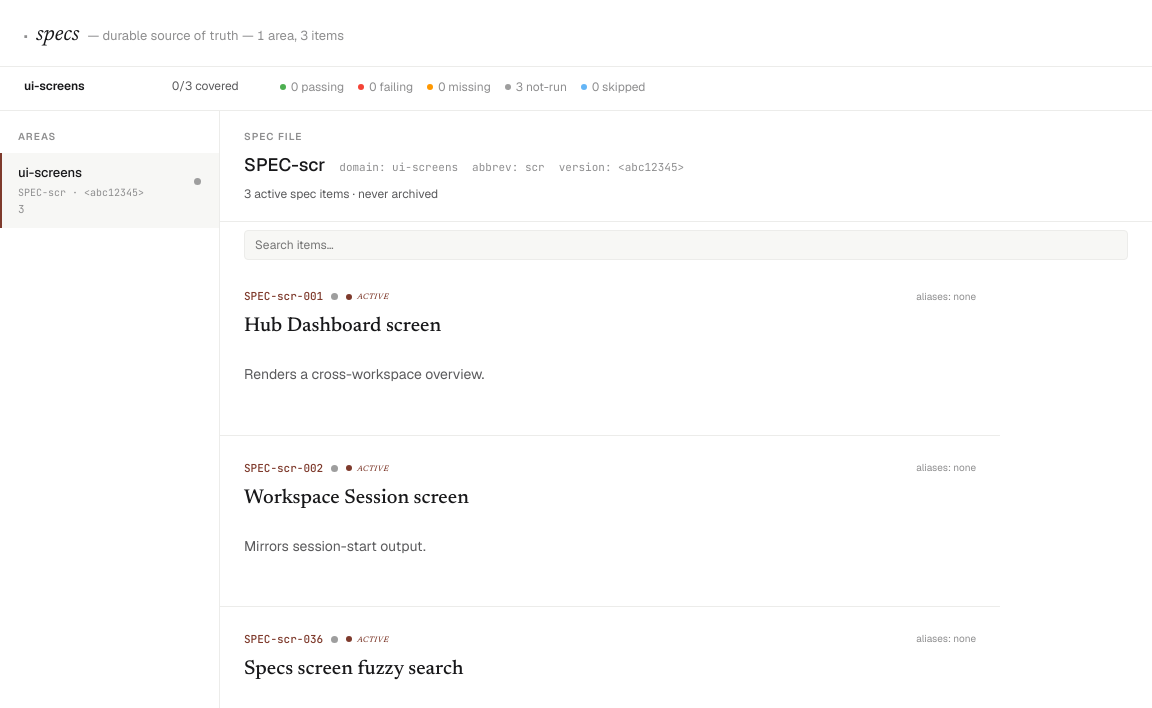
Specs screen fuzzy search (SPEC-scr-036) › typing a query that matches one item leaves only that item in the list
Type "Dashboard" into the field with class "specs-search-input". click: (686, 245)
box: [244,230,1128,260]
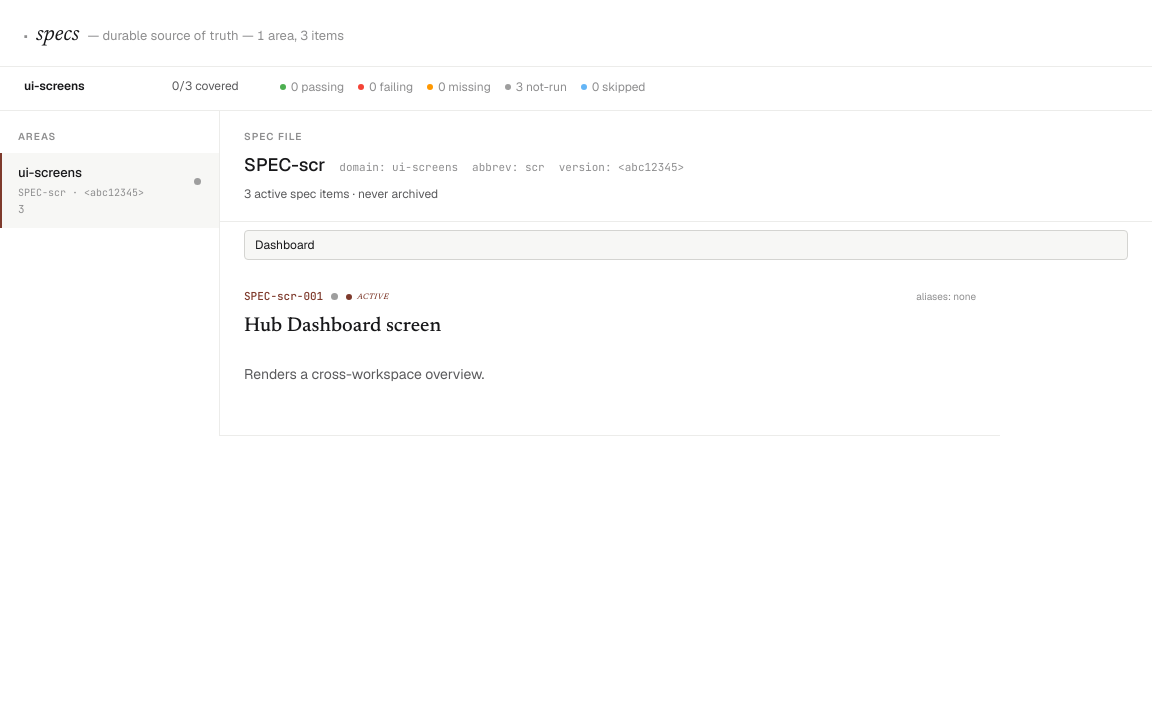
Check: the heading with class "specs-item__title" reads "Hub Dashboard screen", box [244,316,441,336]
Check: the number of elements with class "specs-item" is 1, box [220,264,1000,436]
